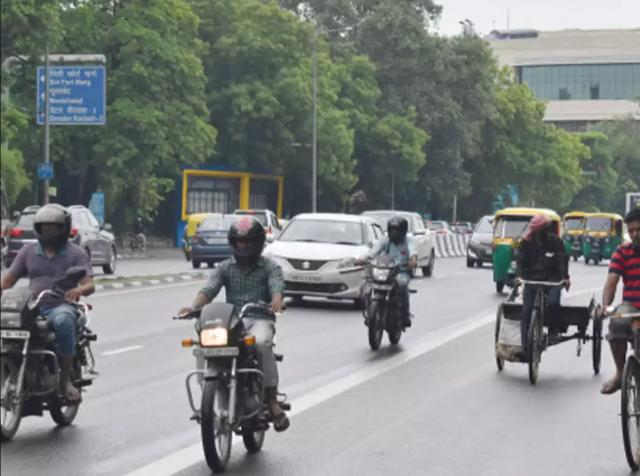licensePlate: (193, 347, 242, 358), (0, 328, 33, 340), (365, 281, 395, 293)
motorcycle: (171, 214, 295, 476), (0, 194, 99, 441), (360, 210, 421, 348)
withHelmet: (223, 217, 277, 259), (29, 200, 72, 245), (381, 217, 408, 240)
